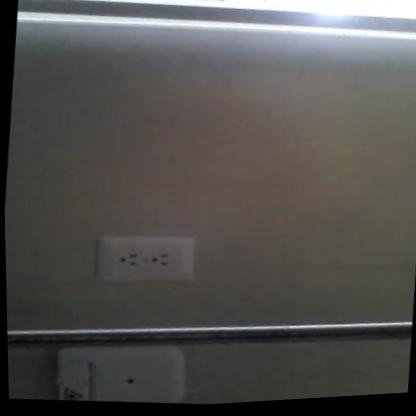OUTLET: (95, 232, 196, 287)
